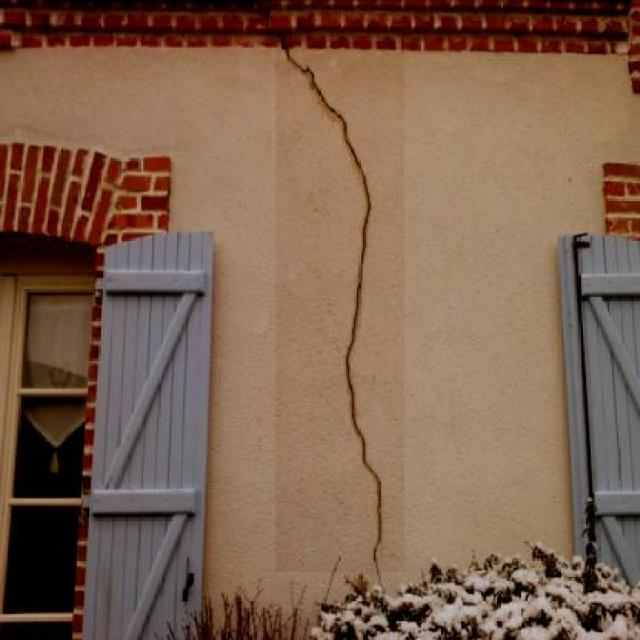Crack: (272, 31, 402, 576)
